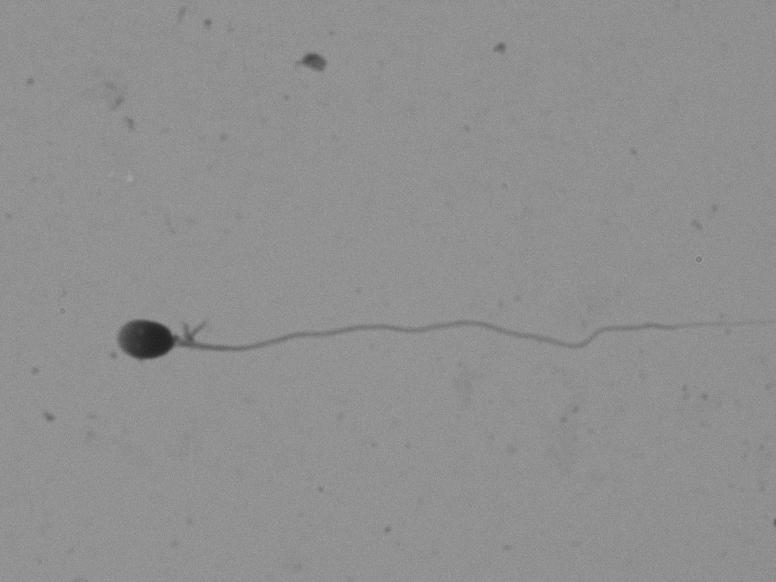Normal: (75, 234, 773, 433)
